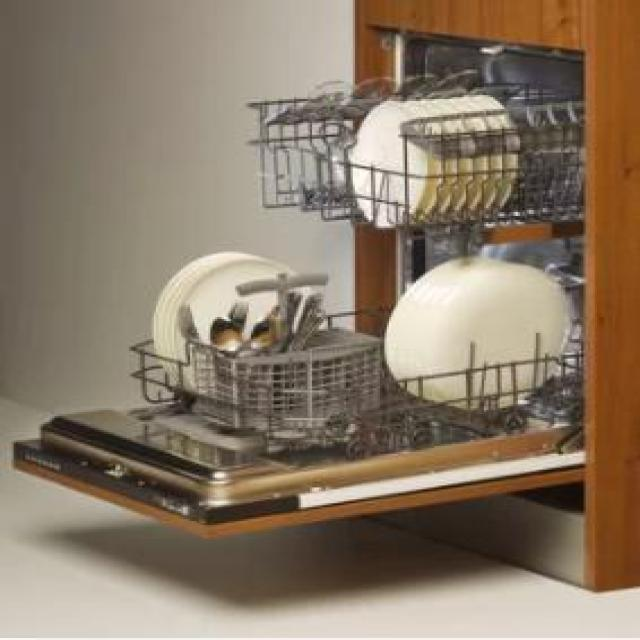dishwasher: (9, 22, 590, 541)
